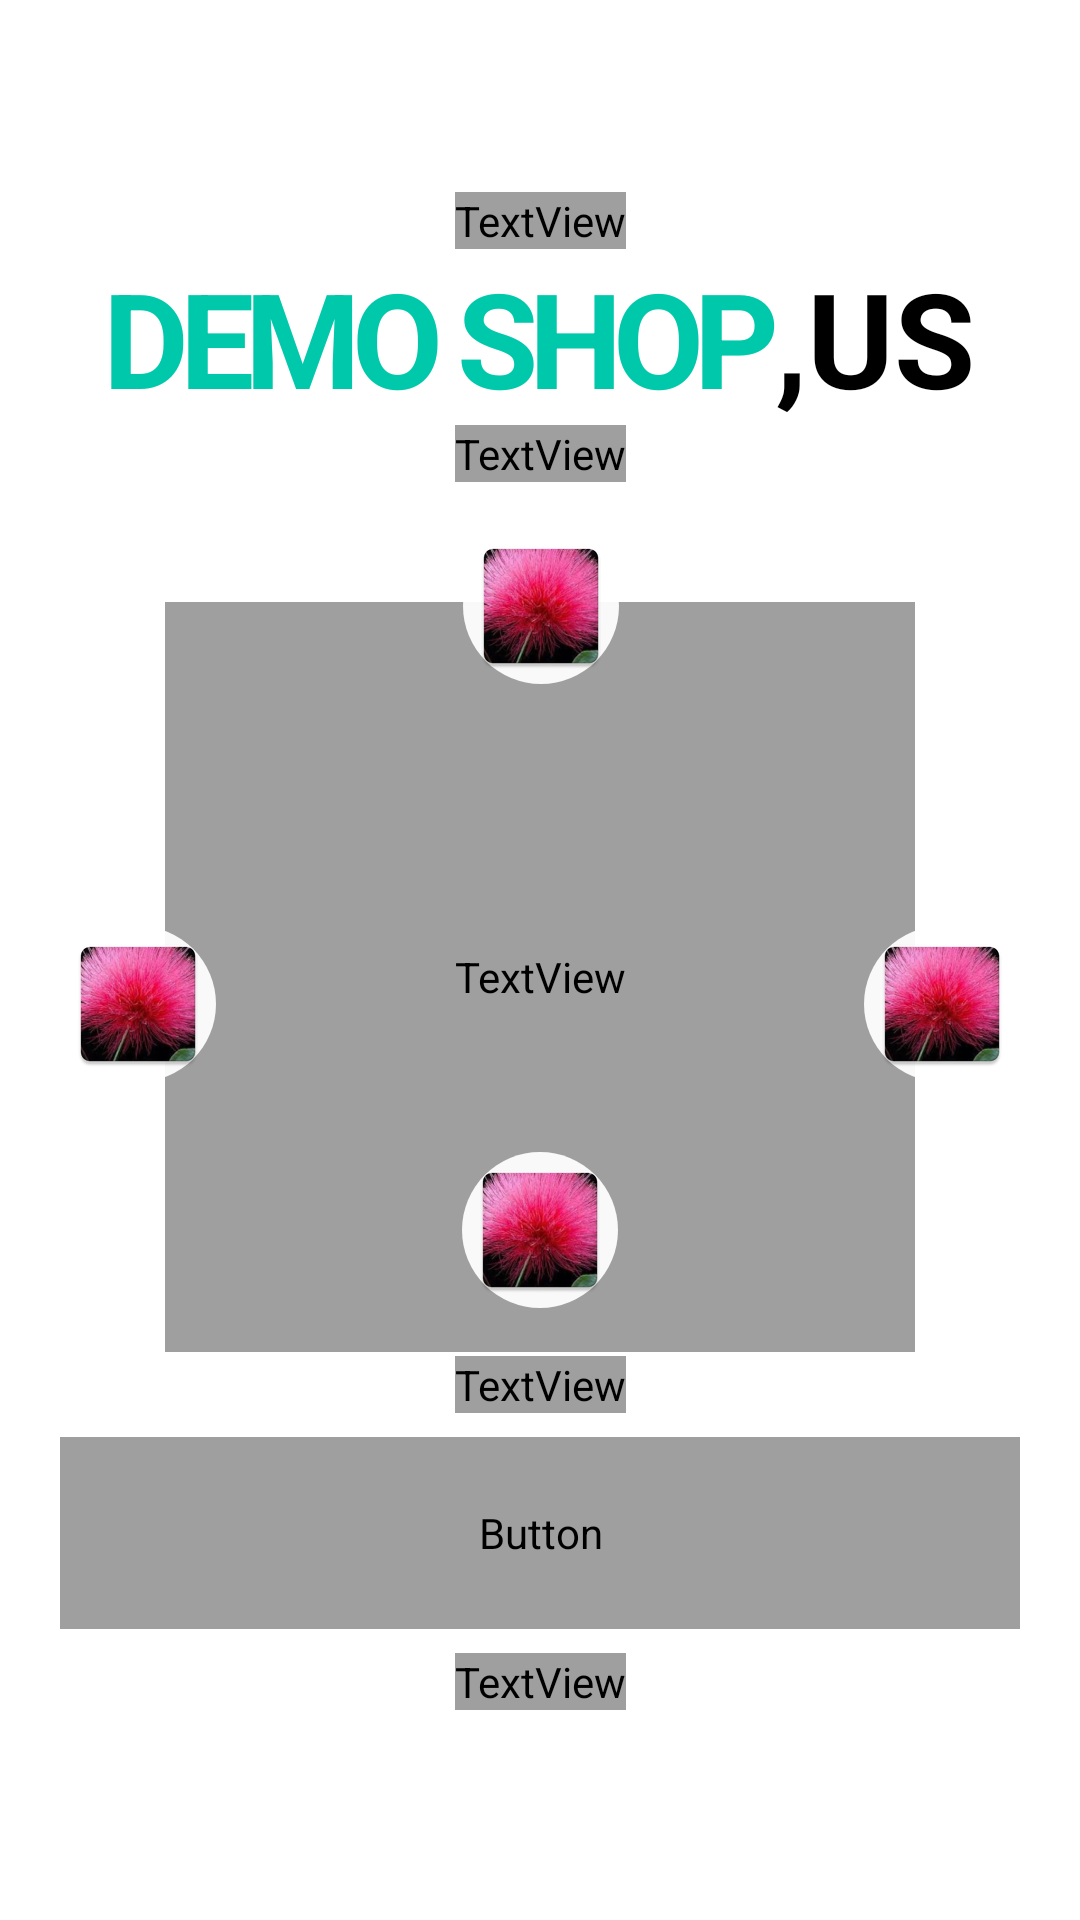

Icons on this 1080px x 1920px Android screen, each with the point to tap as [x,y]:
flower: [541,606], [138,1004], [942,1004], [540,1230]
